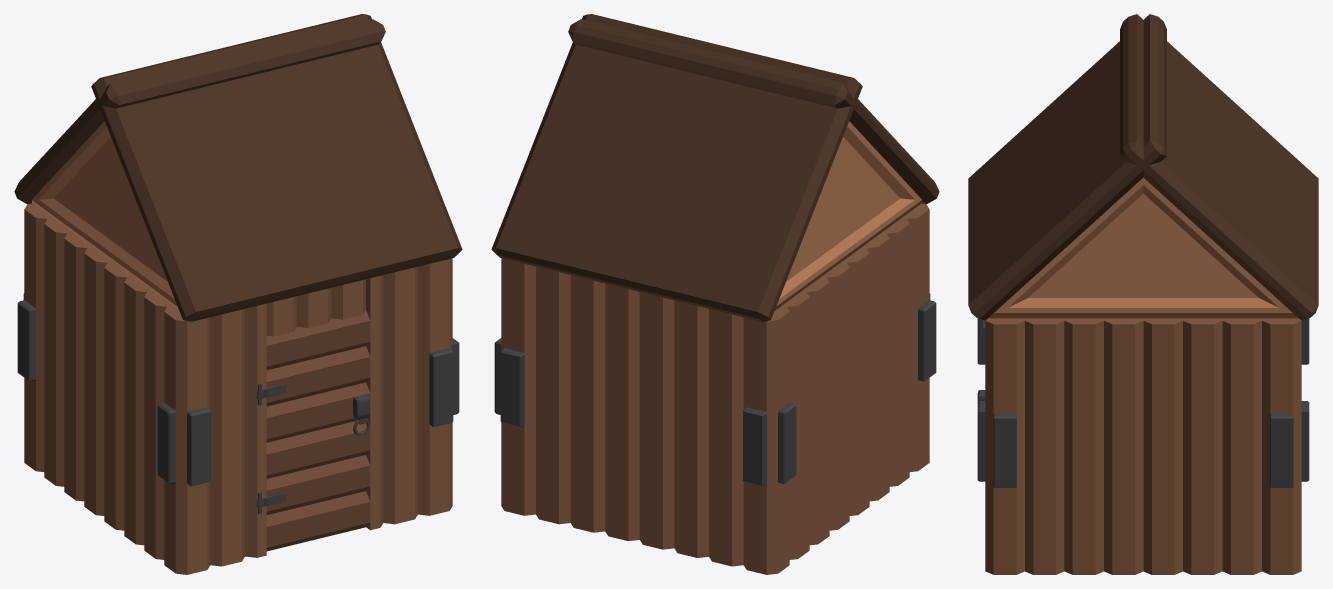
The model's file is House.glb.
The picture shows the model from 3 angles, left to right: view 1: azimuth 30°, elevation 25°; view 2: azimuth 150°, elevation 25°; view 3: azimuth 270°, elevation 25°; orthographic projection.
Visible parts, largest first — view 1: Roof, wall, door, siding.001, Wall_Log, Log.010, Log.005, Log.011, Log.006, wall.002, Log.009, BlankStud.001 (+7 smaller); view 2: Roof, wall.002, wall, siding.001, Wall_Log, BlankStud.006, BlankStud.005, BlankStud.003, BlankStud.004; view 3: wall.001, Roof, siding, Log.011, wall.002, BlankStud, BlankStud.007, BlankStud.001, BlankStud.006.
Part boxes in pixels (x1=…): Roof: x1=14, y1=14, x2=462, y2=321; wall: x1=44, y1=218, x2=171, y2=559; door: x1=266, y1=310, x2=370, y2=551; siding.001: x1=31, y1=121, x2=179, y2=310; Wall_Log: x1=164, y1=305, x2=210, y2=574; Log.010: x1=383, y1=266, x2=417, y2=524; Log.005: x1=210, y1=309, x2=244, y2=566; Log.011: x1=418, y1=258, x2=452, y2=515; Log.006: x1=245, y1=303, x2=266, y2=557; wall.002: x1=24, y1=203, x2=51, y2=471; Log.009: x1=366, y1=275, x2=383, y2=530; BlankStud.001: x1=429, y1=348, x2=453, y2=427; Roof: x1=491, y1=14, x2=939, y2=321; wall.002: x1=501, y1=258, x2=789, y2=574; wall: x1=782, y1=218, x2=909, y2=559; siding.001: x1=774, y1=121, x2=922, y2=310; Wall_Log: x1=902, y1=203, x2=929, y2=471; BlankStud.006: x1=500, y1=348, x2=524, y2=427; BlankStud.005: x1=743, y1=407, x2=766, y2=486; BlankStud.003: x1=918, y1=300, x2=936, y2=381; BlankStud.004: x1=778, y1=402, x2=796, y2=483; wall.001: x1=1025, y1=318, x2=1261, y2=574; Roof: x1=968, y1=14, x2=1318, y2=320; siding: x1=988, y1=177, x2=1298, y2=318; Log.011: x1=985, y1=318, x2=1024, y2=574; wall.002: x1=1262, y1=318, x2=1301, y2=574; BlankStud: x1=993, y1=413, x2=1016, y2=487; BlankStud.007: x1=1270, y1=413, x2=1293, y2=487; BlankStud.001: x1=977, y1=401, x2=985, y2=481; BlankStud.006: x1=1301, y1=401, x2=1309, y2=481.
Size of the model in its own units: 2.1 by 3.01 by 2.22.
